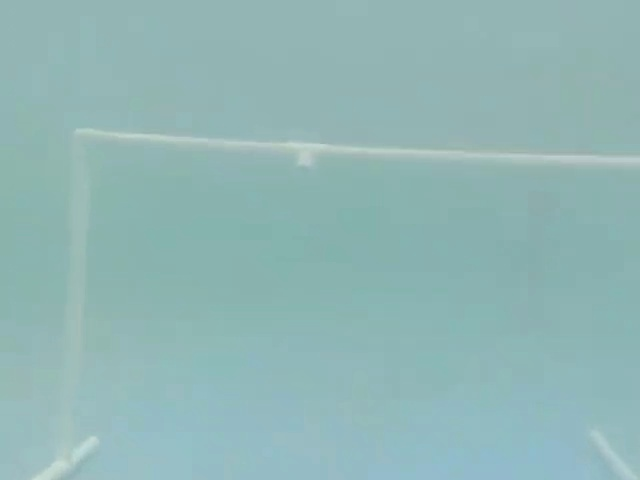gate: (44, 117, 640, 480)
